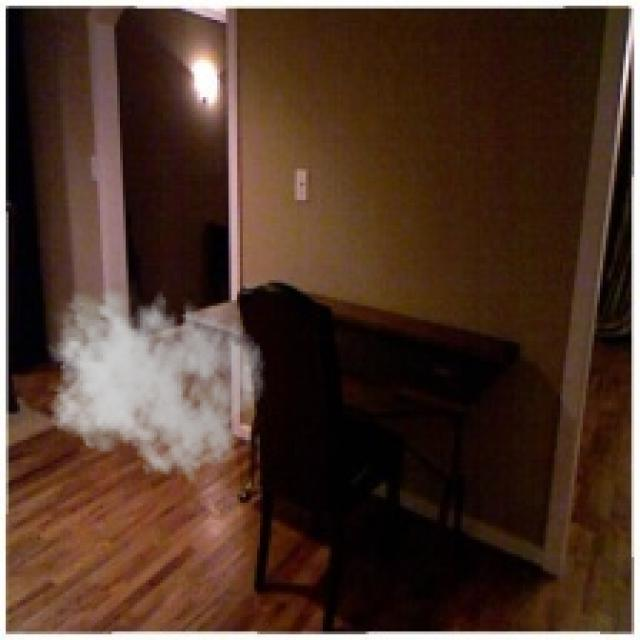Smoke: (43, 277, 266, 483)
